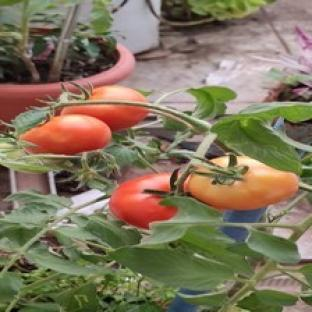Tomato: (189, 156, 299, 210), (109, 173, 178, 228), (20, 115, 111, 154), (62, 104, 149, 130)
